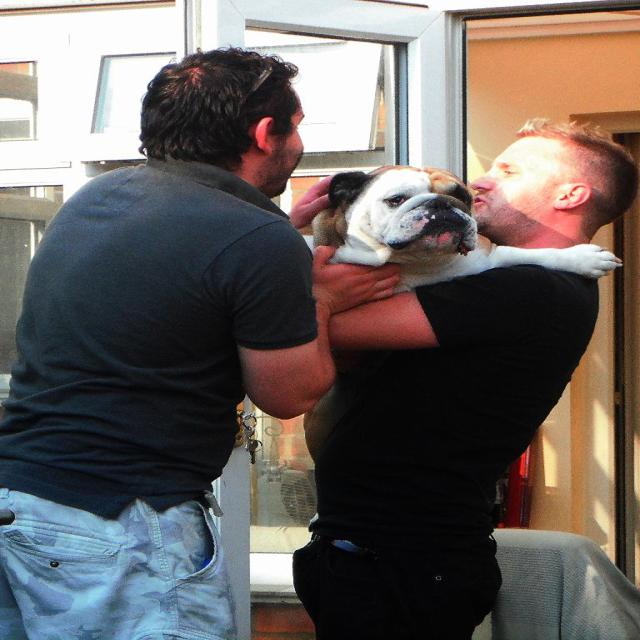Dog: (302, 161, 620, 295)
